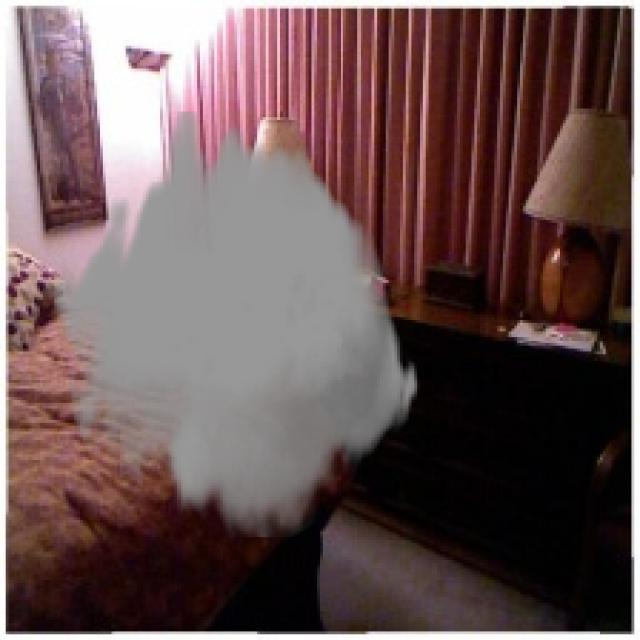smoke: (51, 112, 420, 537)
